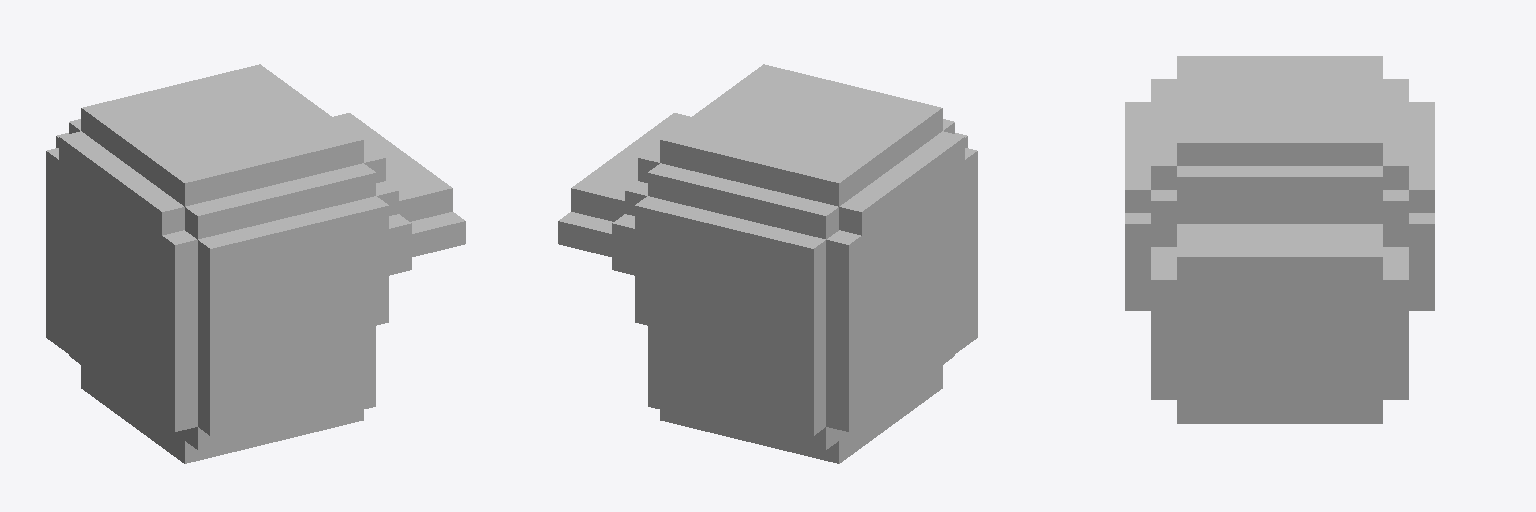
Rendered from Kids Boss Head.obj.
3 renders of one model, left to right at view 1: azimuth 30°, elevation 25°; view 2: azimuth 150°, elevation 25°; view 3: azimuth 270°, elevation 25°, orthographic.
Parts seen in each view (by area): view 1: object 1; view 2: object 1; view 3: object 1.
Boxes of the visible parts, <box> form: object 1: <box>46,64,465,463</box>; object 1: <box>558,64,977,463</box>; object 1: <box>1125,56,1434,423</box>.
Size of the model in its own units: 1.3 by 1.2 by 1.2.